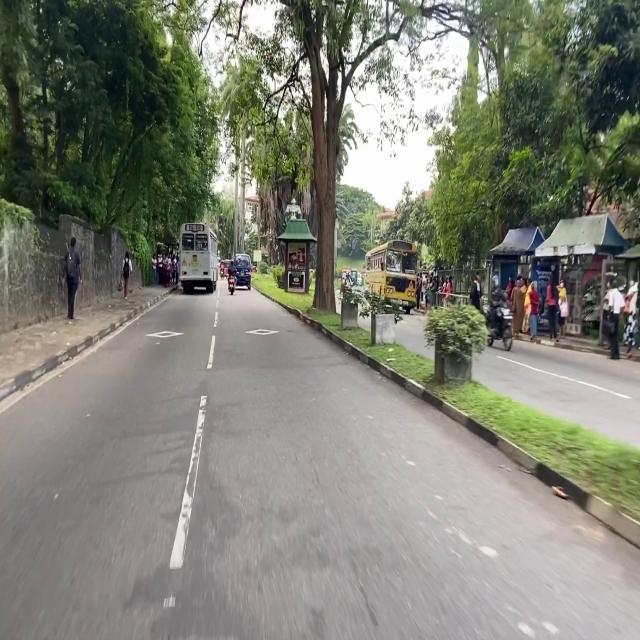bus: (365, 241, 418, 314), (180, 223, 217, 293)
car: (357, 270, 364, 287)
motorcycle: (484, 305, 512, 350), (228, 274, 235, 295), (220, 267, 224, 279)
person: (65, 237, 82, 320), (607, 280, 624, 360), (624, 280, 638, 355), (511, 277, 524, 337), (546, 276, 557, 339), (490, 274, 502, 327), (119, 251, 132, 299), (558, 277, 568, 337), (521, 278, 531, 334), (530, 281, 538, 338), (429, 276, 438, 306), (422, 273, 428, 312), (416, 271, 422, 310), (167, 254, 172, 286), (151, 255, 156, 287), (162, 257, 167, 287), (228, 260, 236, 277), (446, 277, 452, 299), (158, 254, 162, 285), (220, 260, 225, 268)
three wheeler: (341, 268, 351, 292), (224, 260, 230, 277), (351, 270, 357, 286)
van: (235, 254, 251, 289)
